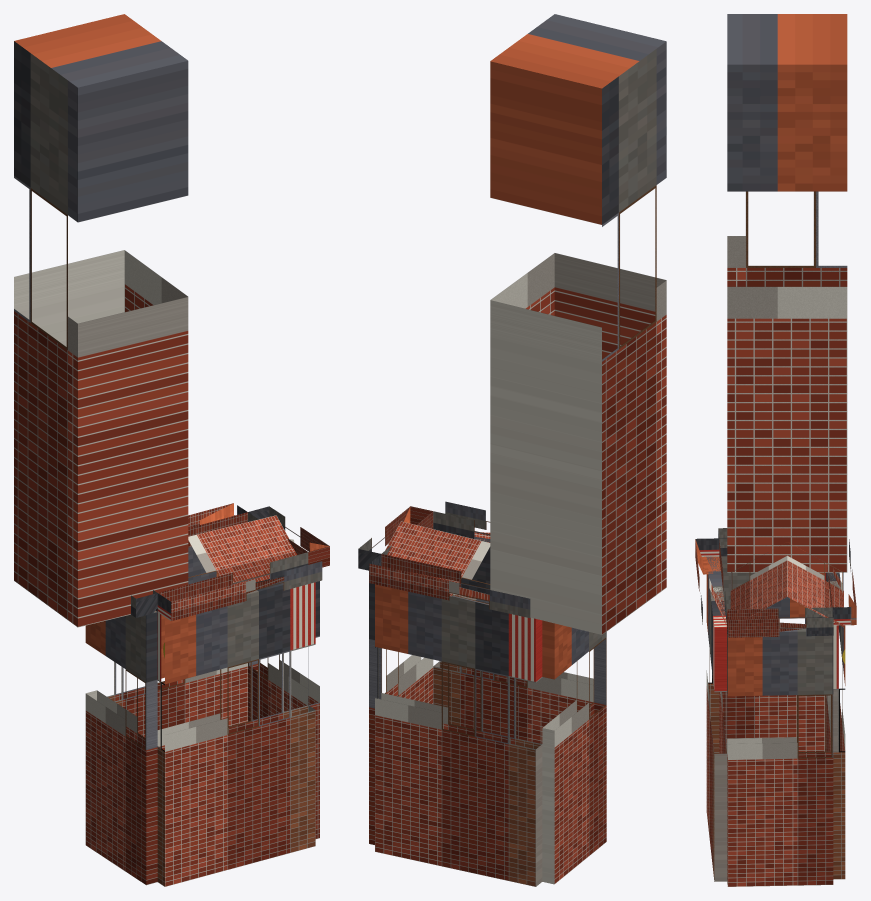
3 views of the same model, side by side, from view 1: azimuth 30°, elevation 25°; view 2: azimuth 150°, elevation 25°; view 3: azimuth 270°, elevation 25° (orthographic). The views are drawn at different scales.
Visible parts, largest first — view 1: 1106965471__chimney_0_xb, 1106965471__wall_1_xb, 1106965471__wall_2_xb, 1106965471__wall_3_xb, 1106965471_roof_-1_xb, 1106965471__cornice_1, 1106965471__wall_0_xb, 1106965471__cornice_0, 1106965471__cornice_3; view 2: 1106965471__chimney_0_xb, 1106965471__wall_3_xb, 1106965471__wall_2_xb, 1106965471__wall_1_xb, 1106965471__cornice_3, 1106965471__wall_0_xb, 1106965471_roof_1_xb, 1106965471__cornice_1, 1106965471__cornice_0; view 3: 1106965471__chimney_0_xb, 1106965471__wall_0_xb, 1106965471__wall_1_xb, 1106965471__wall_2_xb, 1106965471__wall_3_xb, 1106965471__cornice_0, 1106965471_roof_-1_xb, 1106965471_roof_1_xb, 1106965471__cornice_1, 1106965471__cornice_3.
Boxes of the visible parts, x1=… form: 1106965471__chimney_0_xb: x1=14, y1=14, x2=188, y2=627; 1106965471__wall_1_xb: x1=157, y1=580, x2=315, y2=886; 1106965471__wall_2_xb: x1=85, y1=611, x2=157, y2=885; 1106965471__wall_3_xb: x1=107, y1=546, x2=247, y2=737; 1106965471_roof_-1_xb: x1=188, y1=515, x2=296, y2=585; 1106965471__cornice_1: x1=157, y1=552, x2=322, y2=621; 1106965471__wall_0_xb: x1=248, y1=579, x2=319, y2=838; 1106965471__cornice_0: x1=248, y1=506, x2=329, y2=567; 1106965471__cornice_3: x1=188, y1=503, x2=247, y2=547; 1106965471__chimney_0_xb: x1=490, y1=14, x2=666, y2=634; 1106965471__wall_3_xb: x1=375, y1=584, x2=542, y2=886; 1106965471__wall_2_xb: x1=542, y1=620, x2=606, y2=884; 1106965471__wall_1_xb: x1=433, y1=537, x2=593, y2=743; 1106965471__cornice_3: x1=369, y1=554, x2=530, y2=617; 1106965471__wall_0_xb: x1=369, y1=571, x2=433, y2=844; 1106965471_roof_1_xb: x1=385, y1=521, x2=490, y2=604; 1106965471__cornice_1: x1=433, y1=501, x2=490, y2=542; 1106965471__cornice_0: x1=358, y1=506, x2=433, y2=570; 1106965471__chimney_0_xb: x1=727, y1=14, x2=847, y2=572; 1106965471__wall_0_xb: x1=727, y1=628, x2=833, y2=886; 1106965471__wall_1_xb: x1=706, y1=556, x2=726, y2=881; 1106965471__wall_2_xb: x1=721, y1=556, x2=824, y2=752; 1106965471__wall_3_xb: x1=825, y1=572, x2=845, y2=879; 1106965471__cornice_0: x1=727, y1=607, x2=833, y2=637; 1106965471_roof_-1_xb: x1=730, y1=542, x2=787, y2=618; 1106965471_roof_1_xb: x1=787, y1=544, x2=843, y2=627; 1106965471__cornice_1: x1=695, y1=538, x2=726, y2=626; 1106965471__cornice_3: x1=827, y1=539, x2=856, y2=625.
Bounding box in the file's own units: 0.3427 × 1.05 × 0.2015.
Materials: 1 (1 with a texture image).
